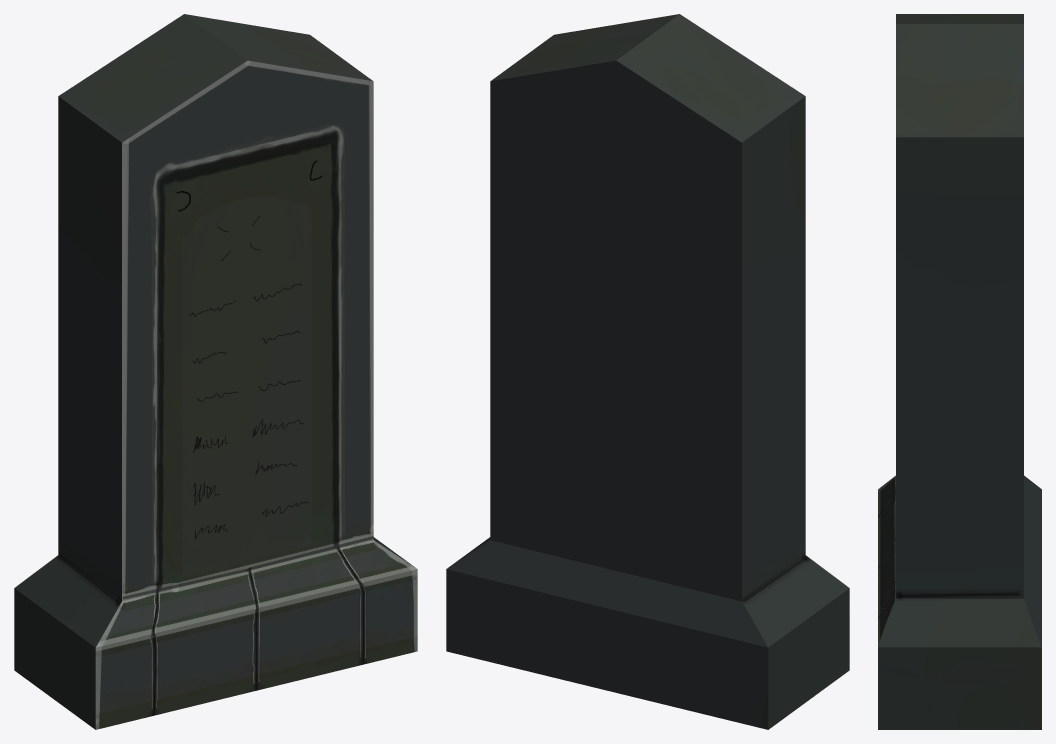
File: Tombstone-Long.fbx
3 views of the same model, side by side, from view 1: azimuth 30°, elevation 25°; view 2: azimuth 150°, elevation 25°; view 3: azimuth 270°, elevation 25° (orthographic).
Parts seen in each view (by area): view 1: Tombstone-Long; view 2: Tombstone-Long; view 3: Tombstone-Long.
Part boxes in pixels (bbox=[...]): Tombstone-Long: bbox=[14, 14, 417, 729]; Tombstone-Long: bbox=[446, 14, 849, 729]; Tombstone-Long: bbox=[878, 14, 1041, 729].
Size of the model in its own units: 225 by 416 by 98.5.
